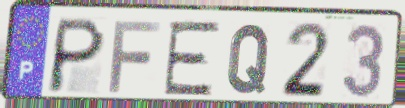2: (282, 20, 332, 101)
3: (340, 21, 386, 101)
E: (160, 19, 223, 97)
F: (106, 18, 163, 96)
P: (44, 16, 109, 96)
Q: (224, 22, 273, 96)
